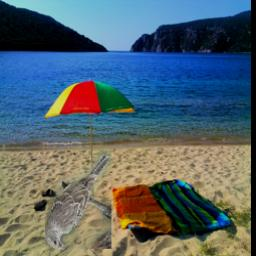Sparrow: (45, 151, 111, 249)
